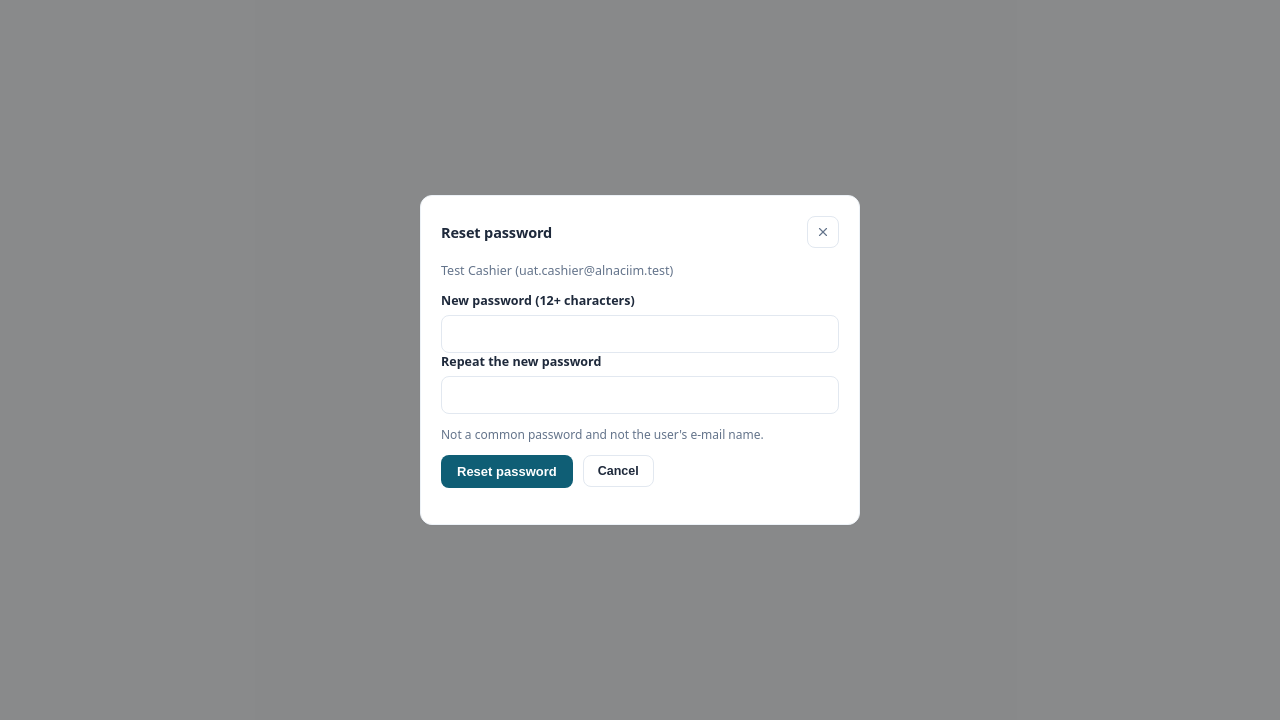
Test: Admin reset password modal › sends the password and its confirmation once, then shows no password anywhere
Type "Tamarind-River-92" into the password field labelled "New password (12+ characters)". click: coordinates (640, 334)
box: [441,315,839,353]
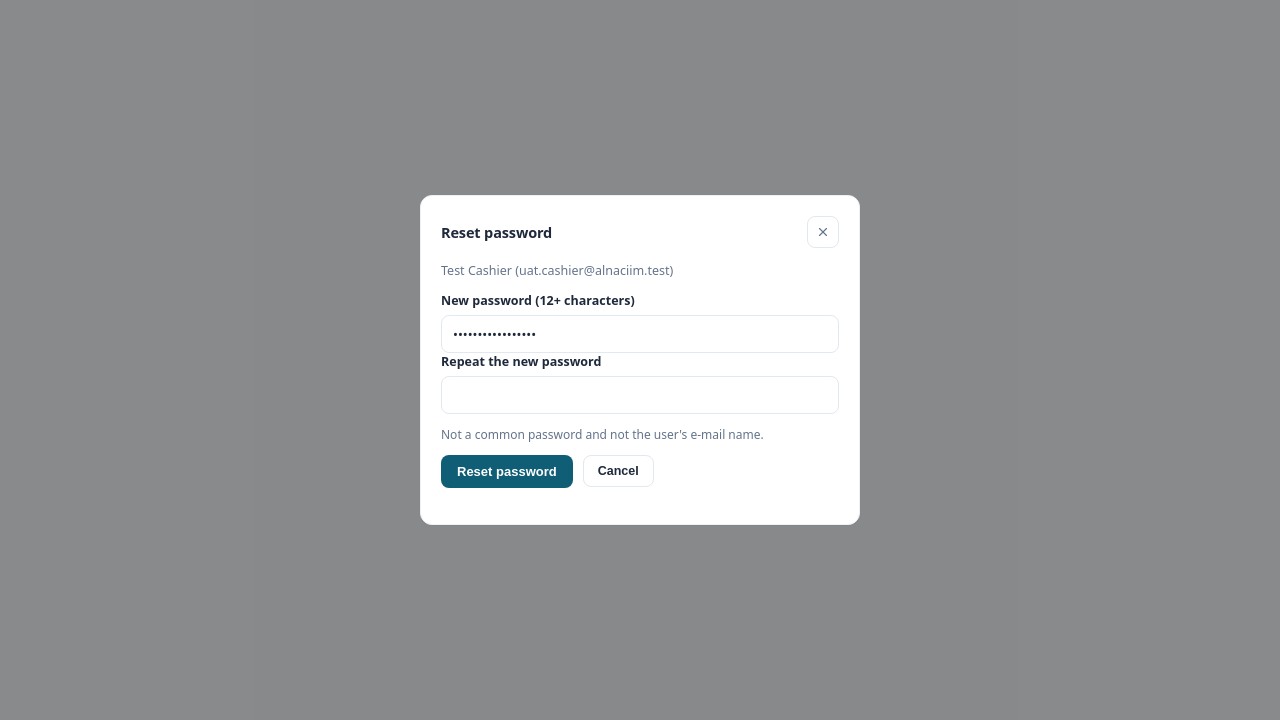
Type "Tamarind-River-92" into the password field labelled "Repeat the new password". click: coordinates (640, 395)
box: [441,376,839,414]
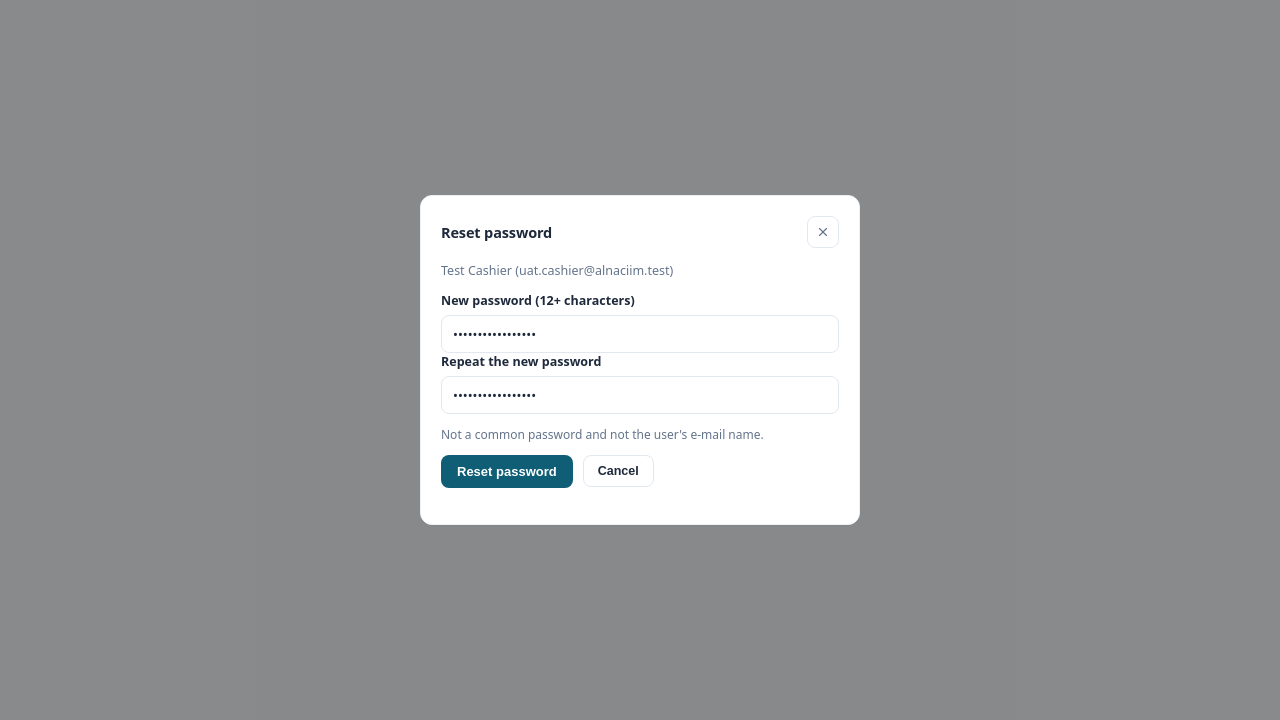
Submit the form labelled "New password", box [441,292,839,488]
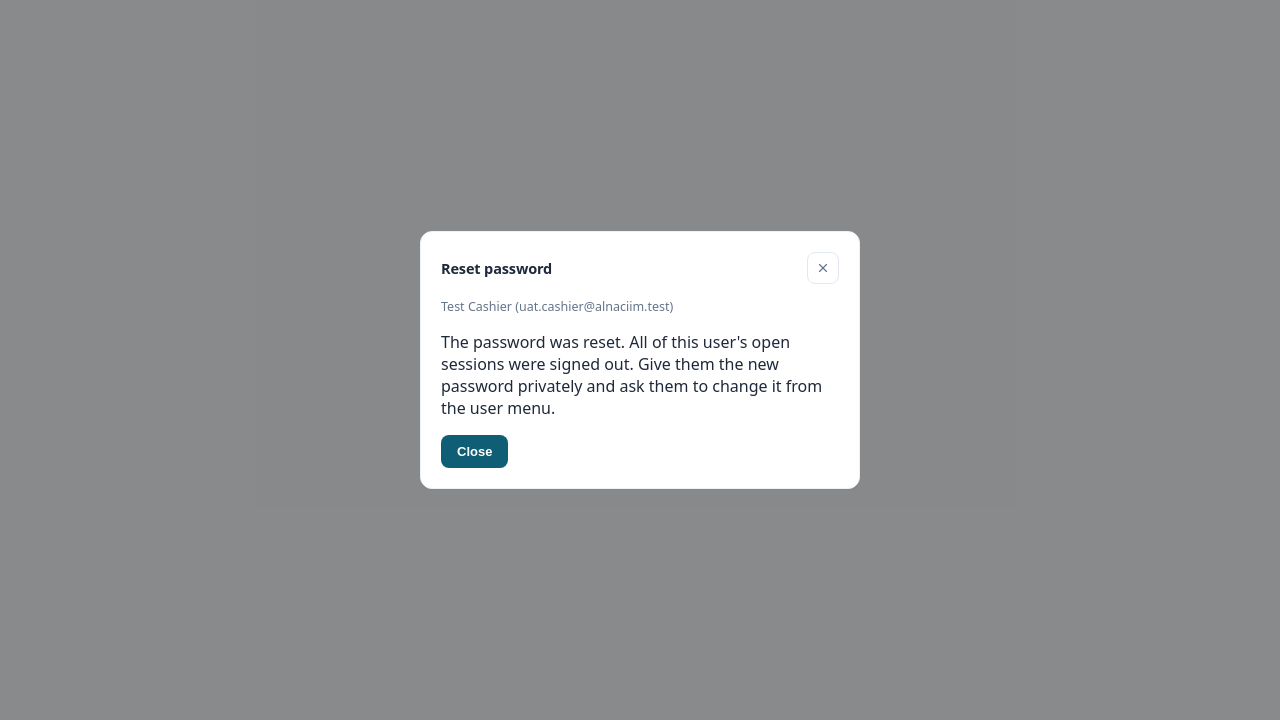
Check: the message is shown, box [441,331,839,419]
Check: the password field labelled "New password" is gone
